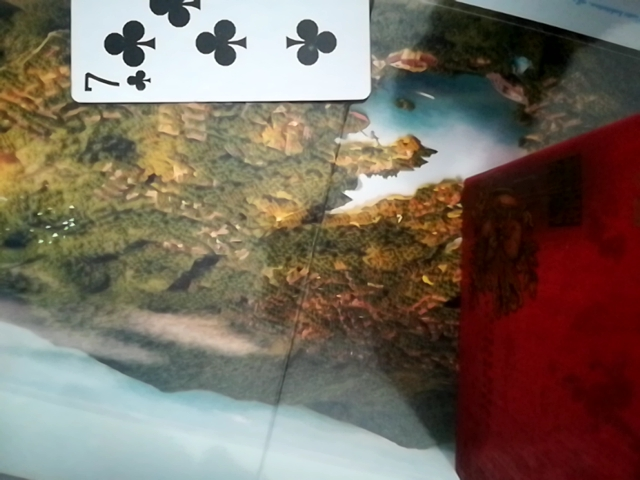mh 7: (57, 5, 369, 105)
